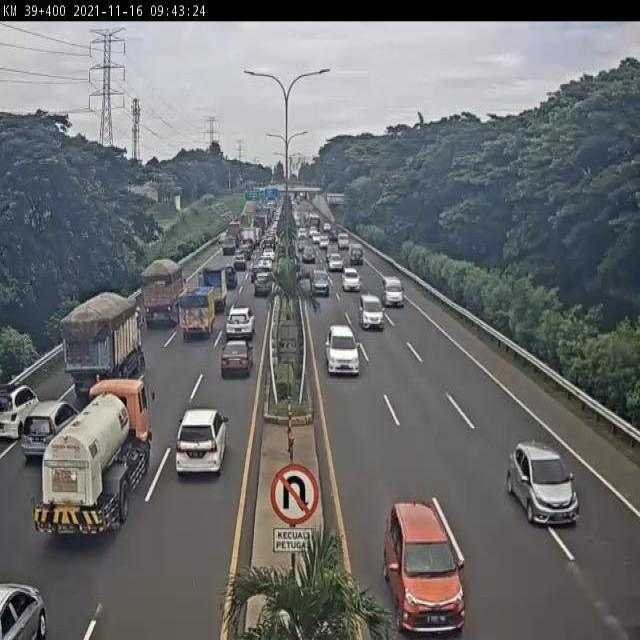car: (381, 490, 476, 640), (503, 433, 589, 538), (19, 395, 79, 472), (0, 564, 59, 640), (173, 403, 226, 485), (0, 379, 56, 440), (317, 312, 365, 383), (214, 338, 257, 386), (375, 264, 416, 312), (217, 304, 262, 343), (350, 293, 391, 335), (307, 264, 333, 296), (341, 264, 364, 296), (299, 244, 322, 267), (328, 248, 346, 275), (253, 276, 272, 300), (220, 236, 239, 259), (222, 264, 238, 291), (250, 260, 269, 281), (231, 252, 251, 269)
small truck: (196, 261, 232, 319), (176, 292, 214, 343), (348, 243, 367, 269)
truck-m-: (32, 375, 158, 552), (57, 291, 147, 408), (142, 260, 182, 332)
